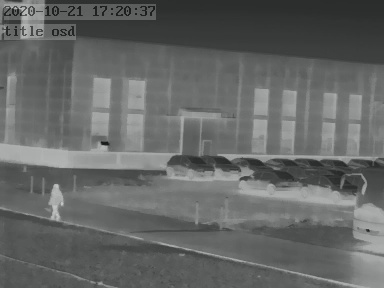person: (47, 182, 64, 222)
vehicle: (236, 169, 303, 191), (164, 153, 213, 178), (298, 175, 346, 200), (204, 153, 243, 177), (232, 154, 270, 171), (345, 156, 380, 172), (261, 155, 296, 170), (319, 156, 351, 170), (295, 155, 325, 169)
